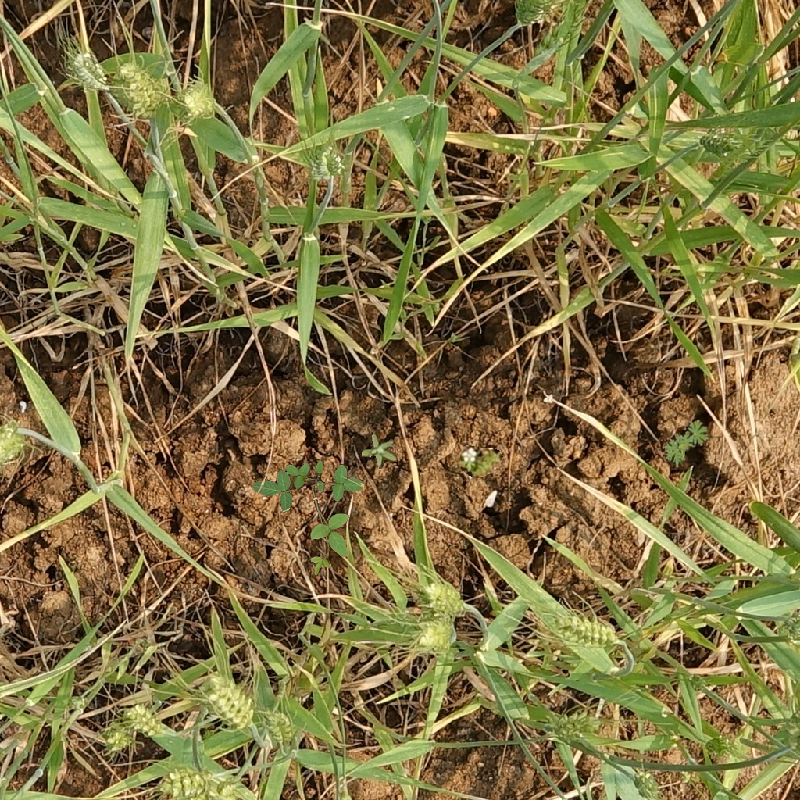spikelet: (154, 766, 257, 799), (201, 671, 256, 730), (552, 610, 623, 651), (116, 60, 162, 118), (545, 708, 602, 742), (64, 47, 108, 91), (412, 614, 457, 653), (421, 577, 467, 615), (179, 78, 218, 121), (259, 706, 298, 747), (309, 142, 346, 183), (122, 702, 165, 736), (696, 124, 740, 157), (630, 764, 666, 800), (1, 420, 26, 468), (98, 718, 133, 752), (513, 1, 558, 27), (772, 605, 800, 645)
weed: (251, 459, 365, 576), (665, 420, 711, 467), (459, 445, 503, 478), (362, 433, 398, 469)
